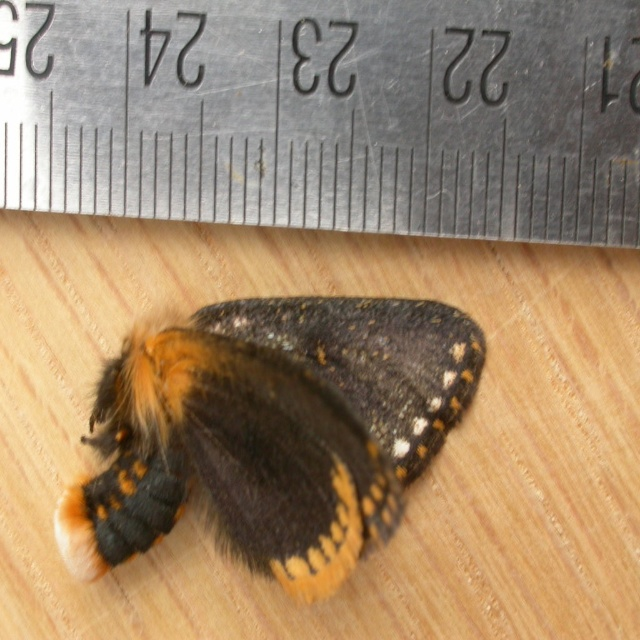Butterfly: (54, 296, 485, 606)
